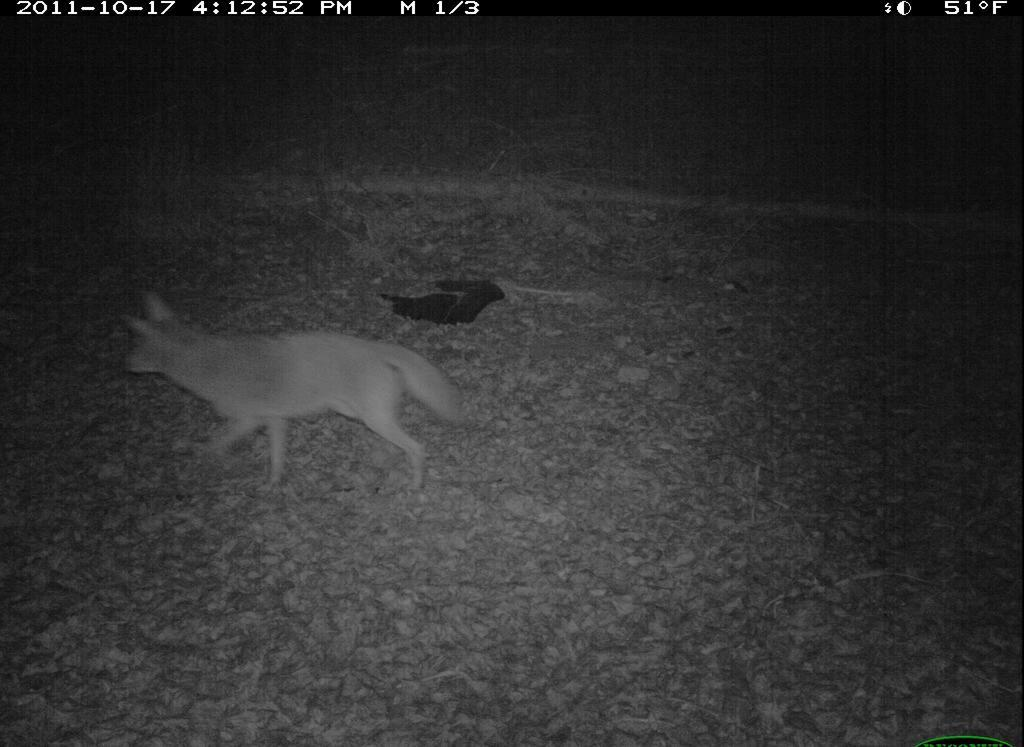coyote: (113, 272, 463, 500)
